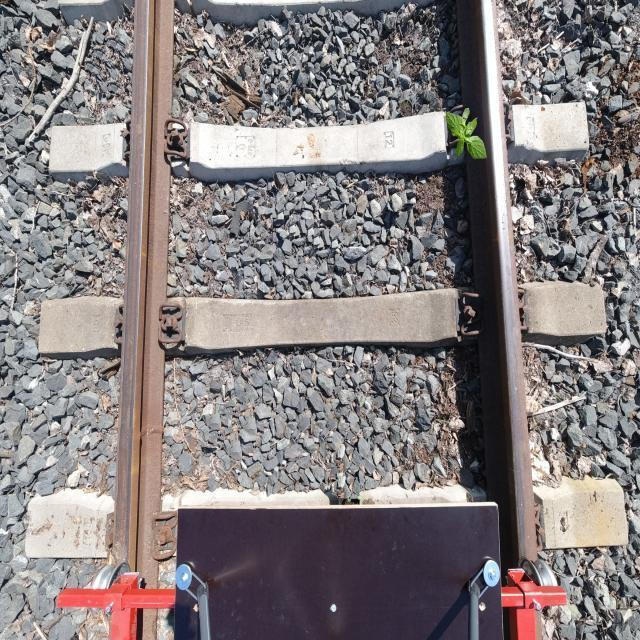Plant: (446, 107, 488, 160)
